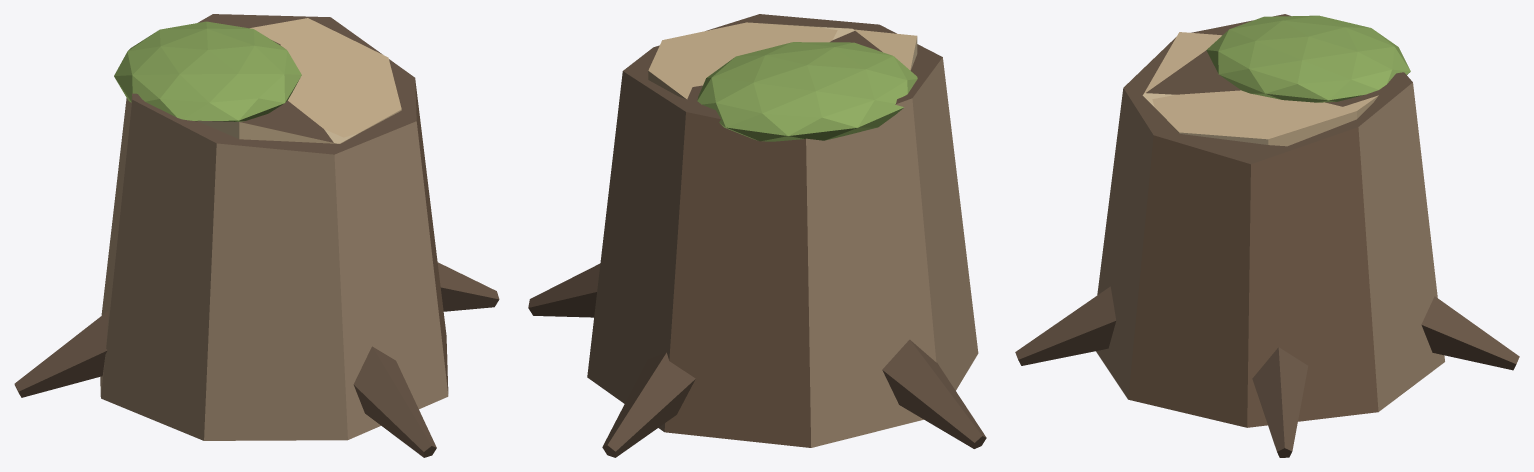
Rendered from tree_stump.glb.
3 views of the same model, side by side, from view 1: azimuth 30°, elevation 25°; view 2: azimuth 150°, elevation 25°; view 3: azimuth 270°, elevation 25° (orthographic). The views are drawn at different scales.
Parts seen in each view (by area): view 1: tree_stump; view 2: tree_stump; view 3: tree_stump.
Part boxes in pixels (x1,y1,x2,y2): tree_stump: (14,14,499,457); tree_stump: (528,14,986,457); tree_stump: (1015,14,1519,457).
Bounding box in the file's own units: 1.23 × 0.806 × 1.25.
